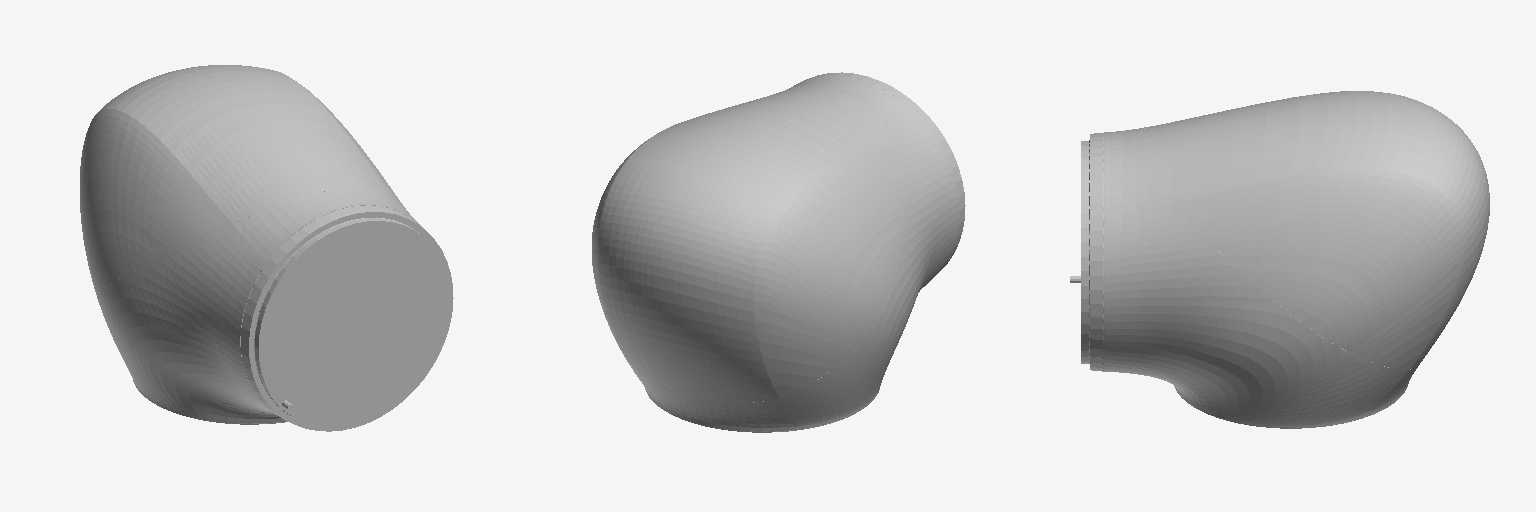
3 renders of one model, left to right at view 1: azimuth 30°, elevation 25°; view 2: azimuth 150°, elevation 25°; view 3: azimuth 270°, elevation 25°, orthographic.
Visible parts, largest first — view 1: link_6; view 2: link_6; view 3: link_6.
Part boxes in pixels (x1,y1,x2,y2): link_6: (80, 65, 453, 431); link_6: (592, 72, 965, 432); link_6: (1070, 91, 1489, 428).
Size of the model in its own units: 0.1322 by 0.1376 by 0.1825.